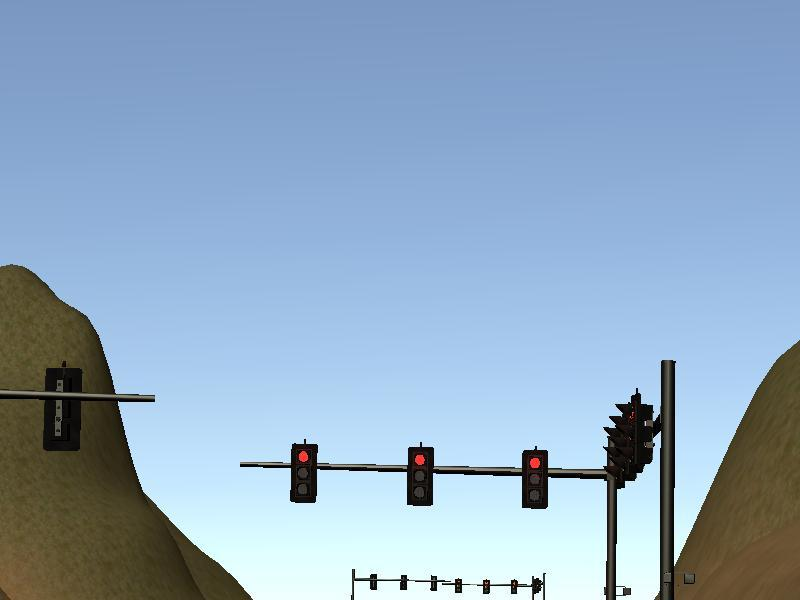Red: (407, 447, 432, 504), (522, 451, 547, 508), (293, 446, 315, 501)
